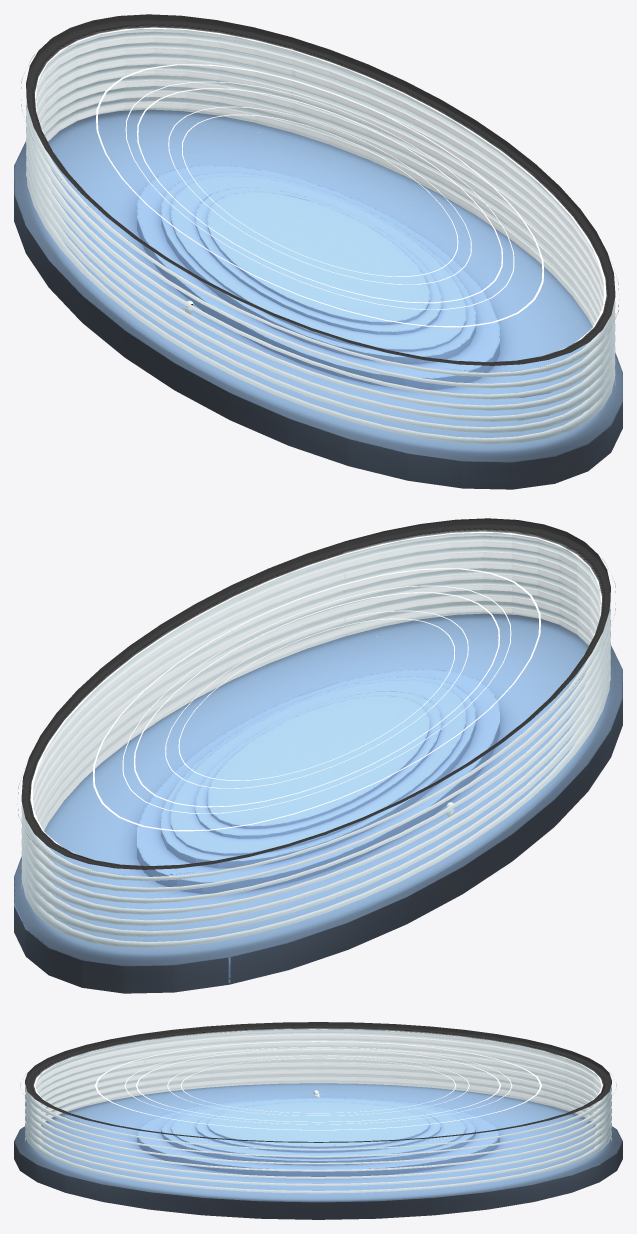
Rendered from white_Technological.glb.
The picture shows the model from 3 angles, top to bottom: view 1: azimuth 30°, elevation 25°; view 2: azimuth 150°, elevation 25°; view 3: azimuth 270°, elevation 25°; orthographic projection. The views are drawn at different scales.
Parts seen in each view (by area): view 1: floor_di, qiang, ding.001; view 2: floor_di, qiang, ding.001; view 3: floor_di, qiang, ding.001.
Part boxes in pixels (x1,y1,x2,y2): floor_di: (14, 109, 622, 489); qiang: (26, 14, 615, 444); ding.001: (35, 27, 606, 350); floor_di: (14, 613, 622, 993); qiang: (21, 518, 610, 948); ding.001: (30, 531, 601, 854); floor_di: (14, 1083, 622, 1219); qiang: (25, 1022, 611, 1193); ding.001: (34, 1029, 602, 1142).
Bounding box in the file's own units: 14.49 × 4.39 × 30.64.
6 materials, 5 textured.
